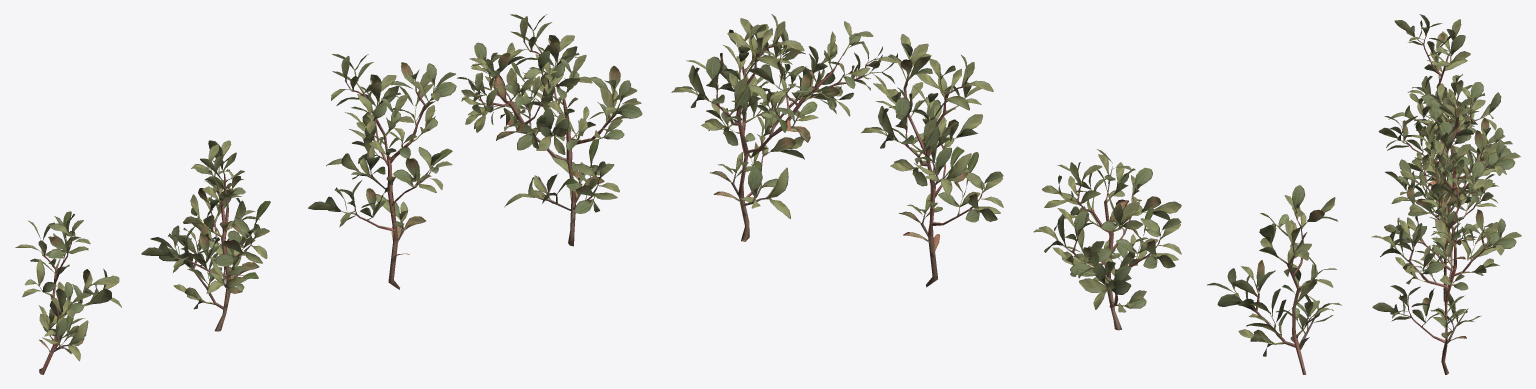
File: shrub_04_lod.gltf
3 views of the same model, side by side, from view 1: azimuth 30°, elevation 25°; view 2: azimuth 150°, elevation 25°; view 3: azimuth 270°, elevation 25° (orthographic). The views are drawn at different scales.
Visible parts, largest first — view 1: shrub_04; view 2: shrub_04; view 3: shrub_04.
Part boxes in pixels (box(x1,y1,x2,y2)): shrub_04: box(15, 14, 642, 374); shrub_04: box(671, 14, 1341, 374); shrub_04: box(1371, 14, 1521, 374).
Bounding box in the file's own units: 0.5833 × 0.2185 × 0.146.
Materials: 1 (1 with a texture image).
